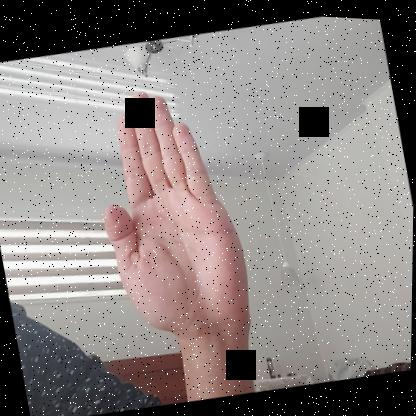B: (79, 72, 262, 344)
